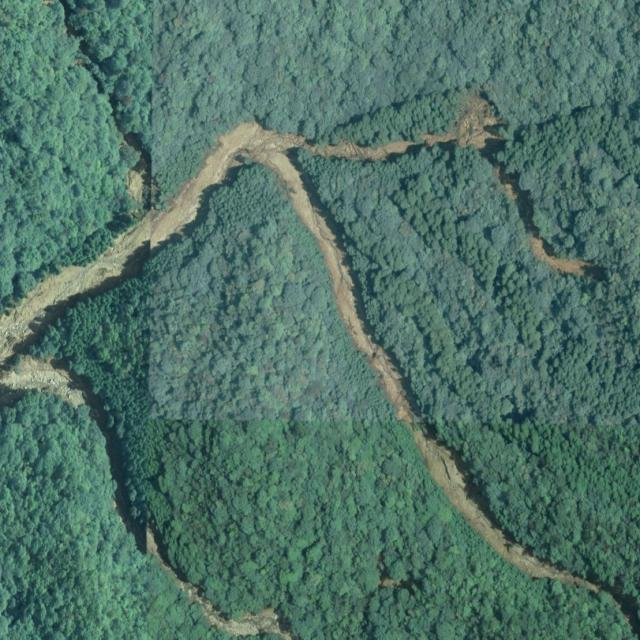landslide: (0, 122, 602, 593), (421, 92, 597, 275), (146, 527, 290, 640)
